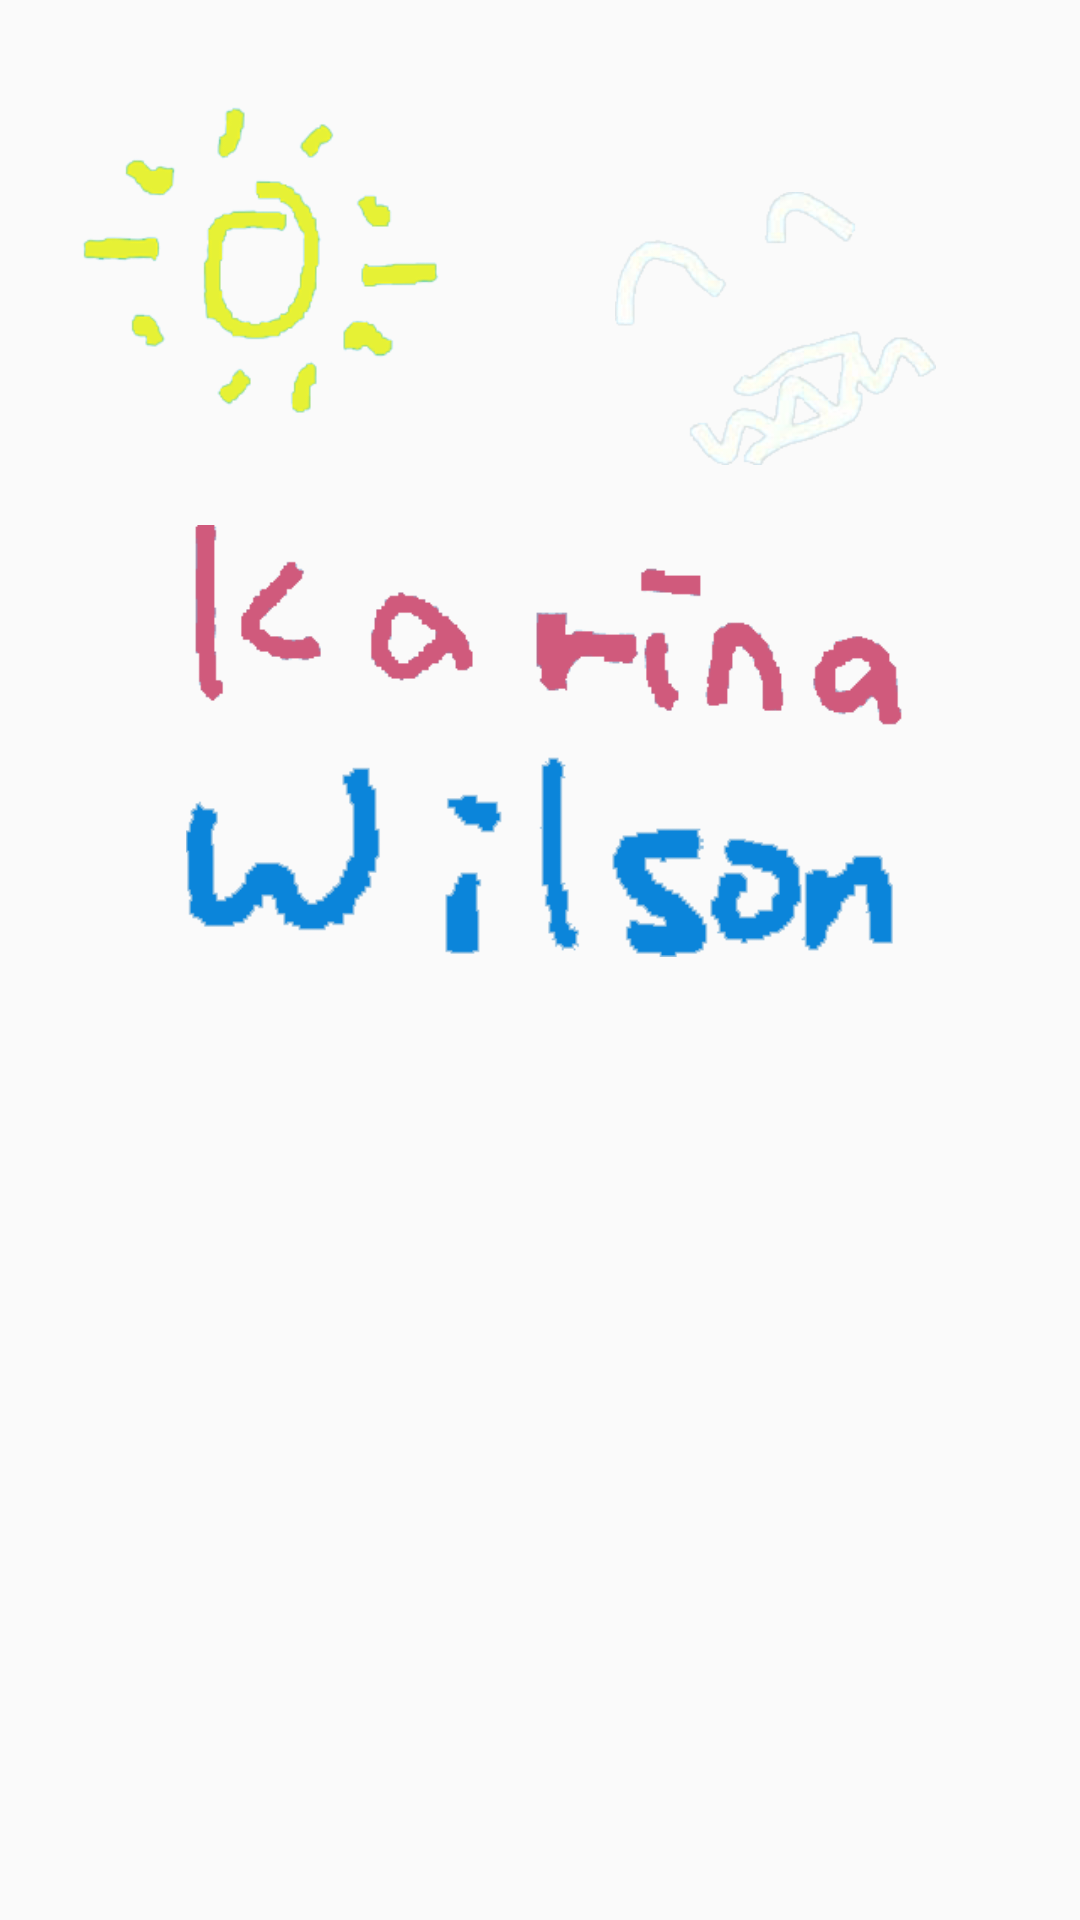

Where icons sit on this 1080*1920 app screen, as box=[x1, y1, x2, y2]:
sun: box=[83, 108, 438, 413]
